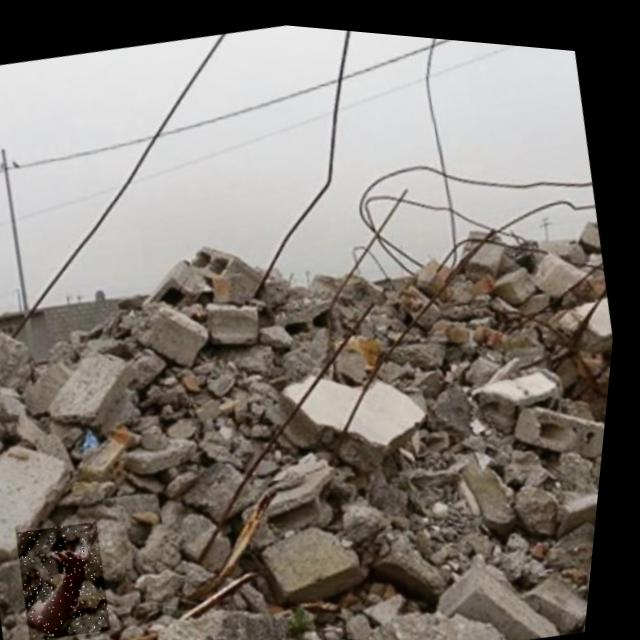Person in Rubble: (18, 513, 130, 640)
